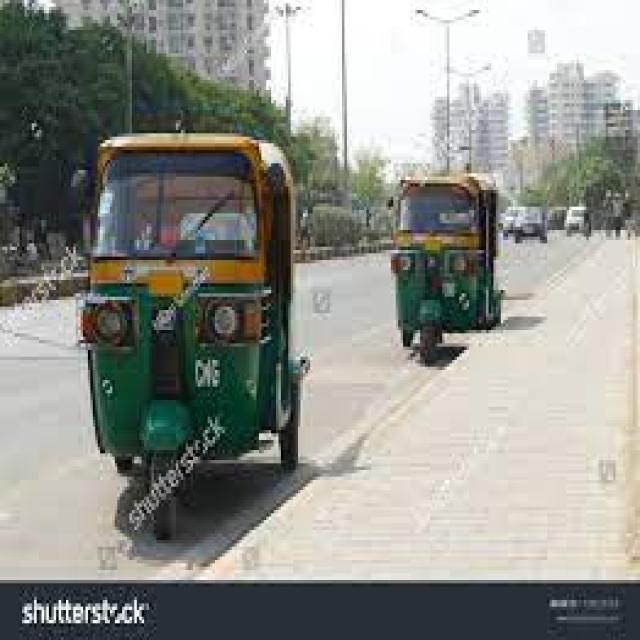car: (513, 207, 545, 243), (567, 207, 586, 233)
three wheeler: (81, 133, 298, 533), (391, 173, 501, 363)
